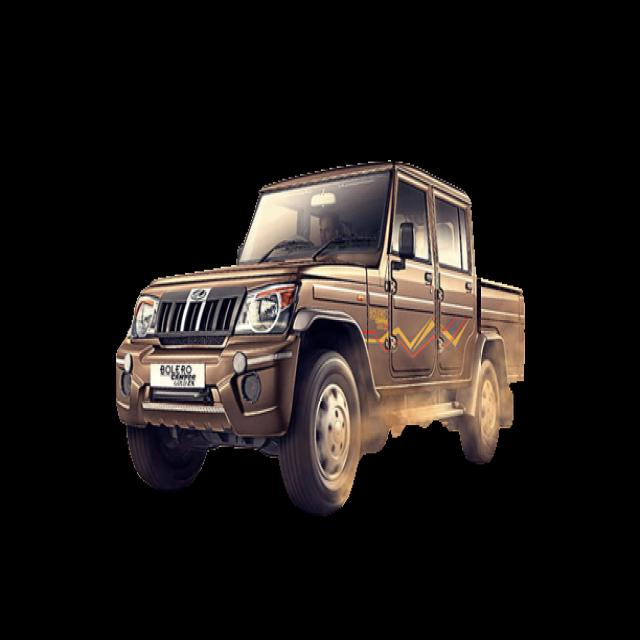light_vehicle: (116, 163, 528, 510)
